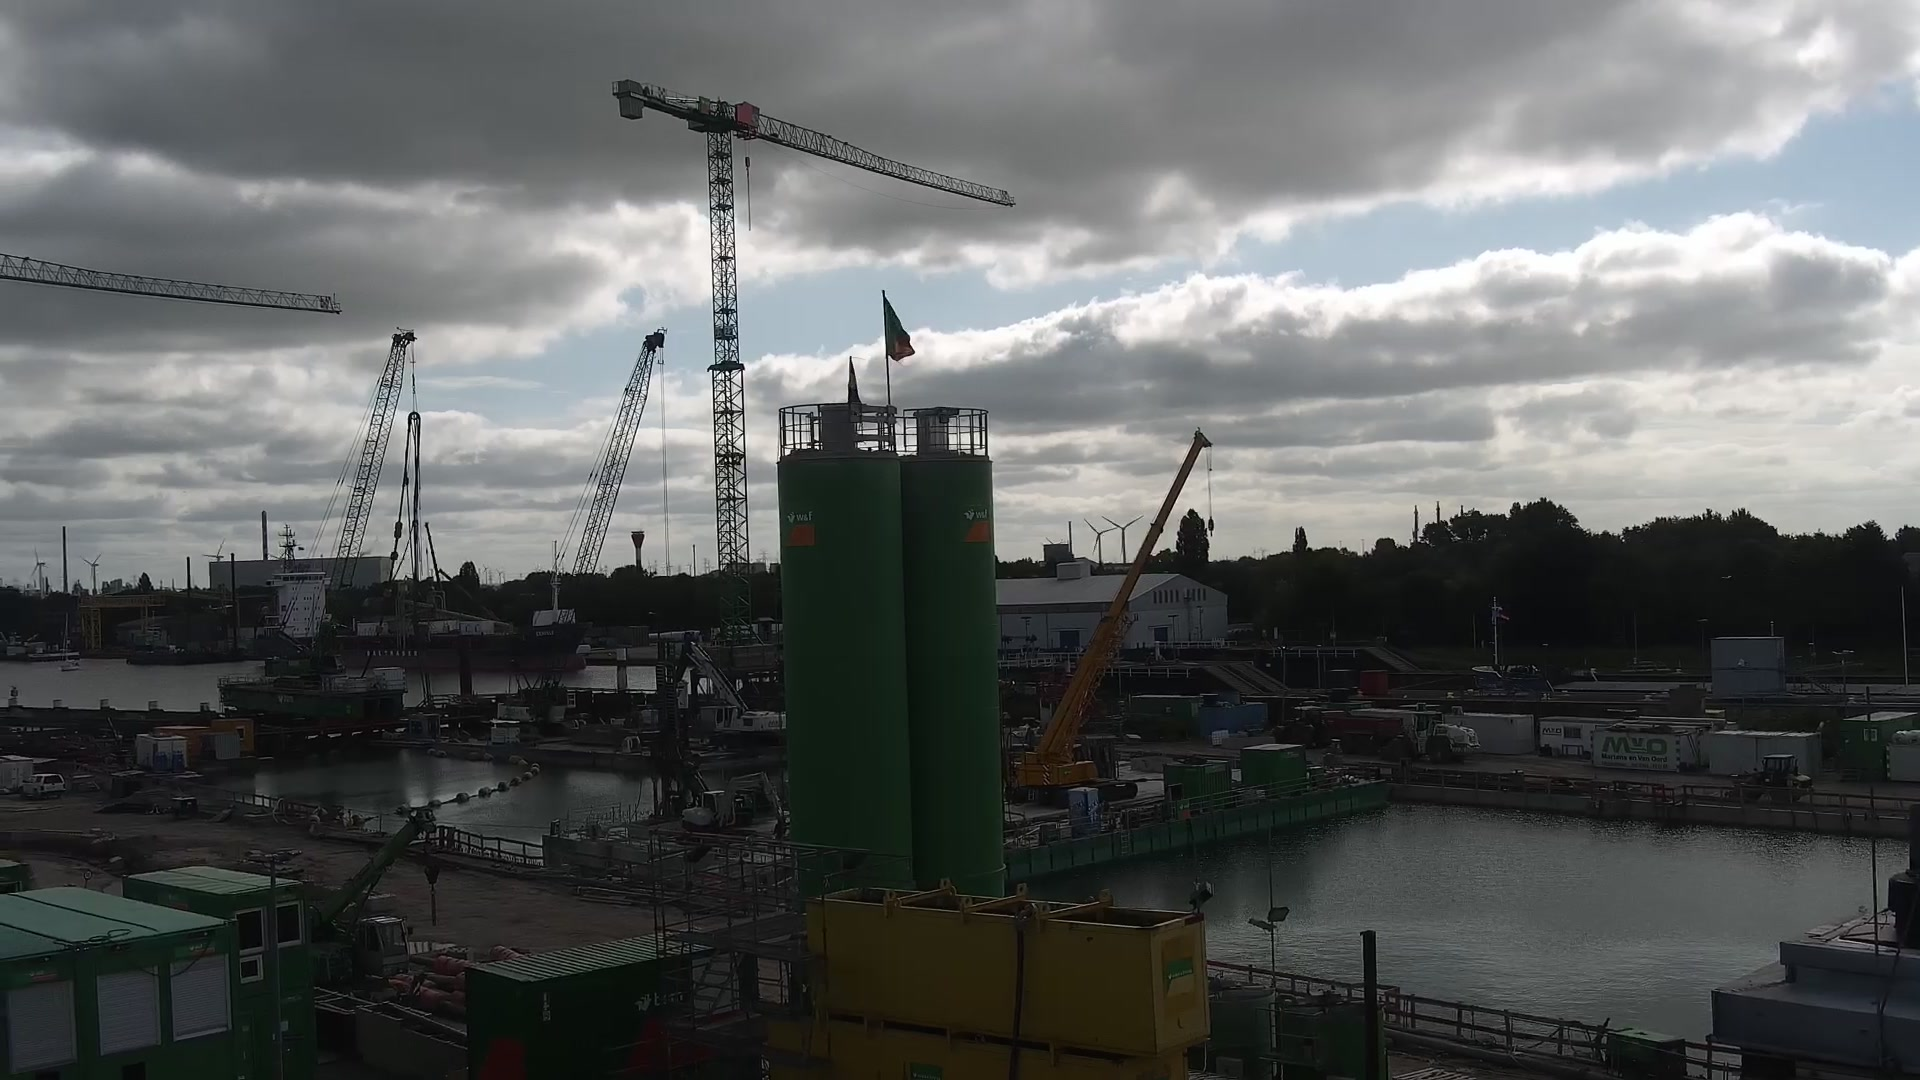land: (1009, 425, 1213, 804), (309, 806, 438, 1007), (674, 641, 787, 748), (678, 770, 786, 841), (1373, 707, 1480, 761), (1729, 752, 1815, 804), (1273, 704, 1331, 746), (18, 773, 65, 799)
sea: (253, 522, 593, 671), (1470, 593, 1919, 696), (58, 612, 80, 673)
